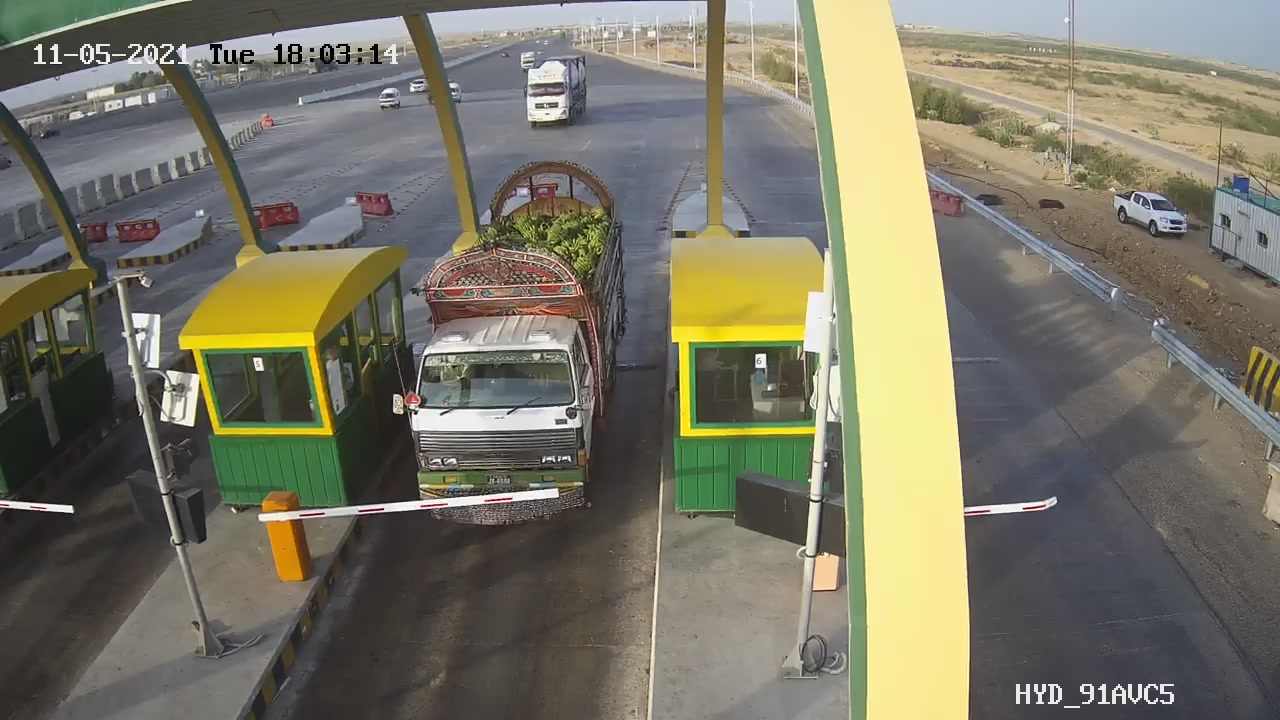F5: (382, 147, 659, 548)
